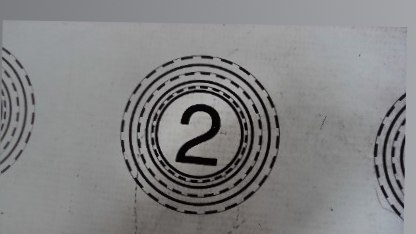2r: (117, 51, 282, 218)
